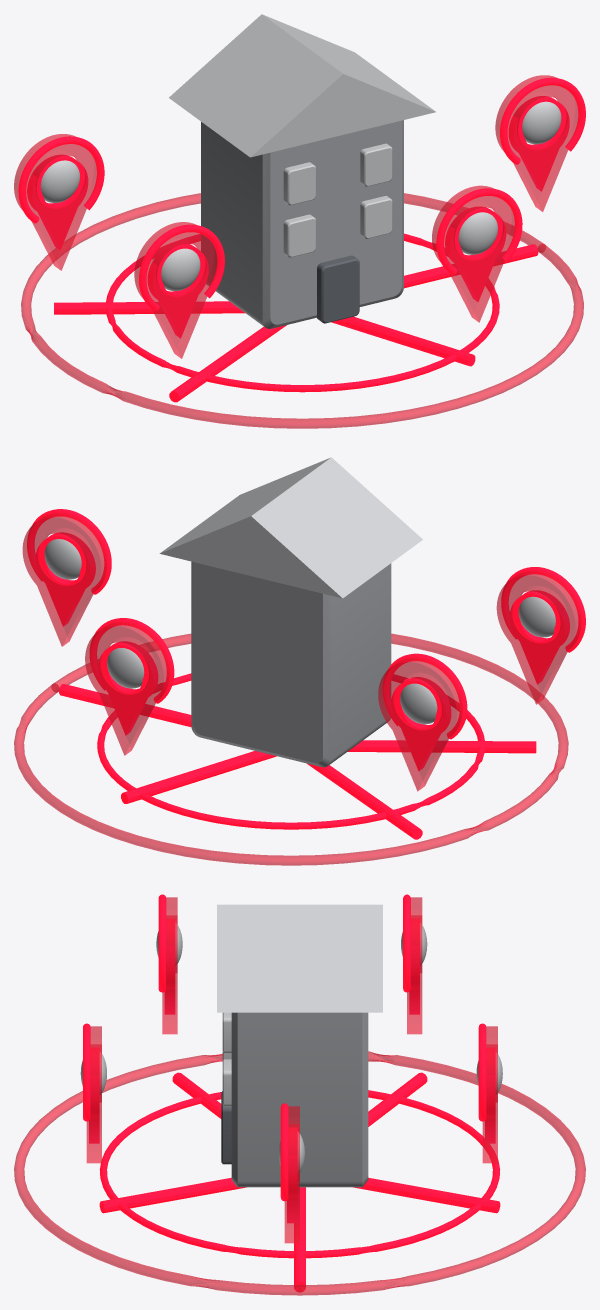
Rendered from 45-service-network.glb.
3 renders of one model, top to bottom at view 1: azimuth 30°, elevation 25°; view 2: azimuth 150°, elevation 25°; view 3: azimuth 270°, elevation 25°, orthographic. The views are drawn at different scales.
Visible parts, largest first — view 1: BC satin iron, BC ruby optical glass, BC brushed iron, BC internal ruby light, BC recessed iron; view 2: BC brushed iron, BC ruby optical glass, BC internal ruby light, BC satin iron; view 3: BC brushed iron, BC ruby optical glass, BC satin iron, BC internal ruby light, BC recessed iron.
Boxes of the visible parts, box(x1,y1,x2,y2) form: BC satin iron: box(40, 14, 561, 290); BC ruby optical glass: box(14, 75, 583, 428); BC brushed iron: box(201, 120, 403, 328); BC internal ruby light: box(18, 77, 585, 402); BC recessed iron: box(316, 255, 359, 323); BC brushed iron: box(191, 561, 391, 767); BC ruby optical glass: box(14, 513, 580, 865); BC internal ruby light: box(27, 509, 585, 839); BC satin iron: box(44, 457, 555, 724); BC brushed iron: box(231, 1012, 368, 1187); BC ruby optical glass: box(14, 897, 585, 1295); BC satin iron: box(80, 904, 502, 1174); BC internal ruby light: box(83, 894, 500, 1292); BC recessed iron: box(221, 1091, 231, 1164).
Bounding box in the file's own units: 2.34 × 1.16 × 2.2.
